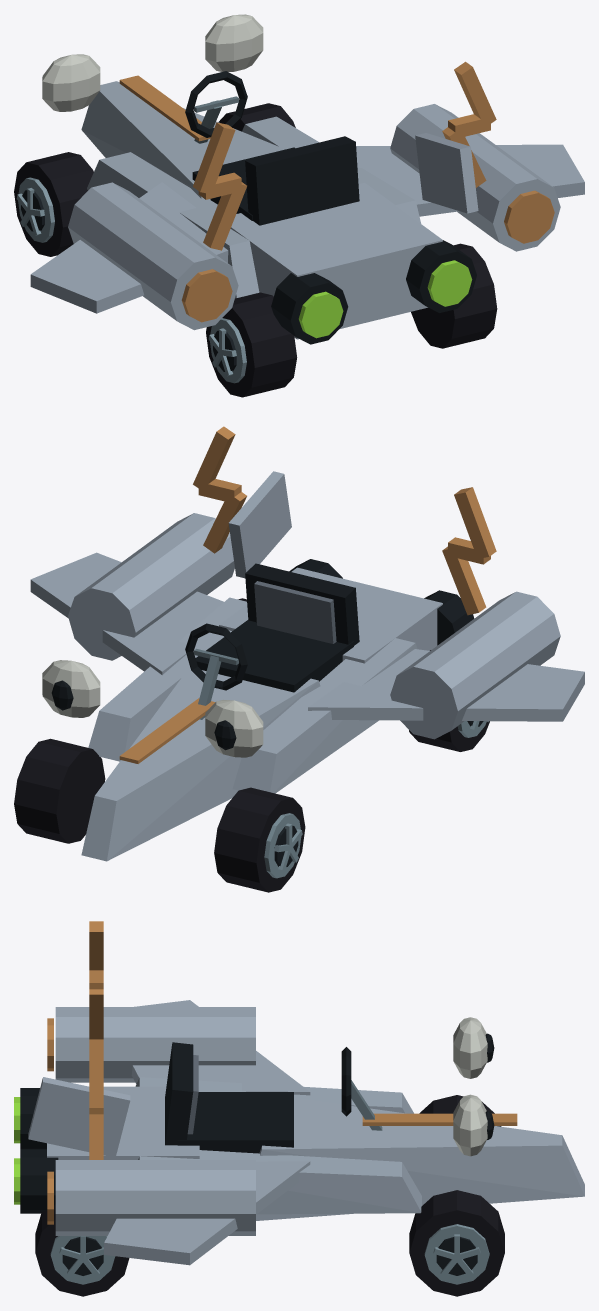
The model's file is kart.glb.
The picture shows the model from 3 angles, top to bottom: view 1: azimuth 30°, elevation 25°; view 2: azimuth 150°, elevation 25°; view 3: azimuth 270°, elevation 25°; orthographic projection. The views are drawn at different scales.
Parts seen in each view (by area): view 1: identity-starfighter-starfighter-flight-planform, identity-starfighter-motif-engine-pods, identity-starfighter-driver-cockpit, wheel-rear-left, wheel-front-left, identity-starfighter-motif-electric, identity-starfighter-motif-eyes, wheel-rear-right, wheel-front-right; view 2: identity-starfighter-starfighter-flight-planform, identity-starfighter-motif-engine-pods, identity-starfighter-driver-cockpit, wheel-front-left, wheel-front-right, identity-starfighter-motif-electric, identity-starfighter-motif-eyes, wheel-rear-left; view 3: identity-starfighter-starfighter-flight-planform, identity-starfighter-motif-engine-pods, identity-starfighter-driver-cockpit, wheel-front-right, wheel-rear-right, identity-starfighter-motif-eyes, identity-starfighter-motif-electric, wheel-front-left.
Boxes of the visible parts, x1,y1,x2,y2 form: identity-starfighter-starfighter-flight-planform: (30,75,584,344); identity-starfighter-motif-engine-pods: (68,104,560,330); identity-starfighter-driver-cockpit: (185,71,359,225); wheel-rear-left: (206,292,297,397); wheel-front-left: (14,152,93,256); identity-starfighter-motif-electric: (193,61,496,250); identity-starfighter-motif-eyes: (42,14,263,111); wheel-rear-right: (411,243,497,348); wheel-front-right: (218,103,295,131); identity-starfighter-starfighter-flight-planform: (30,471,584,861); identity-starfighter-motif-engine-pods: (68,513,560,739); identity-starfighter-driver-cockpit: (185,563,359,719); wheel-front-left: (214,787,305,892); wheel-front-right: (14,738,105,843); identity-starfighter-motif-electric: (193,426,496,615); identity-starfighter-motif-eyes: (42,660,263,757); wheel-rear-left: (409,650,489,751); identity-starfighter-starfighter-flight-planform: (14,1000,584,1265); identity-starfighter-motif-engine-pods: (47,1007,255,1235); identity-starfighter-driver-cockpit: (165,1042,382,1153); wheel-front-right: (409,1190,504,1296); wheel-rear-right: (35,1204,129,1296); identity-starfighter-motif-eyes: (453,1017,494,1156); identity-starfighter-motif-electric: (89,921,103,1159); wheel-front-left: (419,1095,501,1126).
Size of the model in its own units: 3.14 by 1.49 by 2.99.
